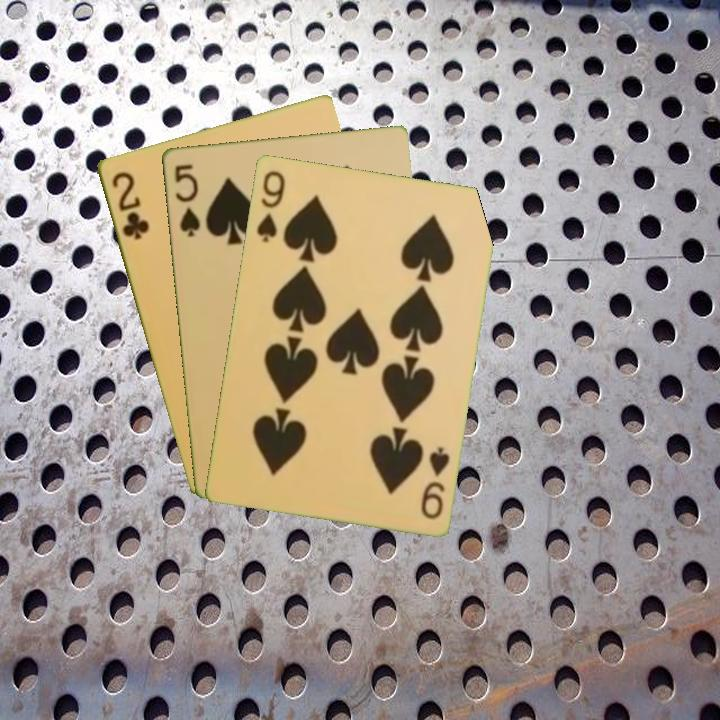2c: (107, 168, 152, 243)
5s: (170, 160, 203, 239)
9s: (252, 166, 288, 245), (417, 443, 452, 522)
